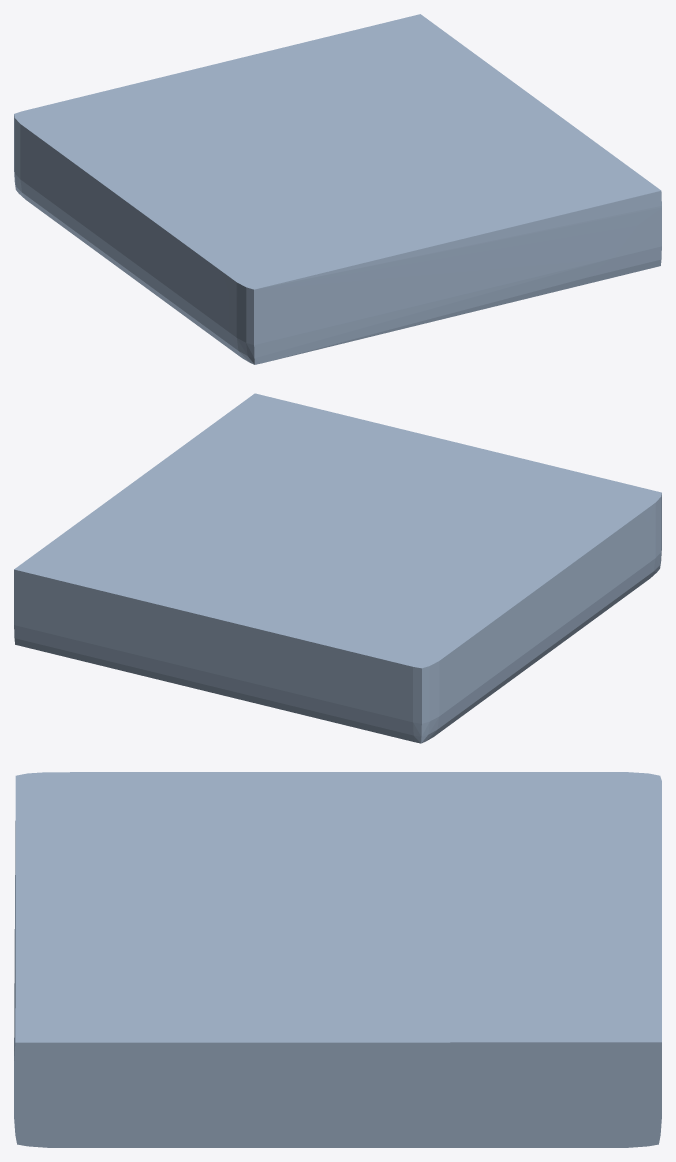
File: right_hip_yaw_link_part_6.obj
3 views of the same model, one above another, from view 1: azimuth 30°, elevation 25°; view 2: azimuth 150°, elevation 25°; view 3: azimuth 270°, elevation 25° (orthographic). The views are drawn at different scales.
Size of the model in its own units: 0.0403 by 0.00733 by 0.0408.
